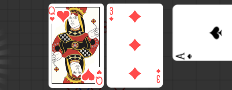3D: (109, 6, 115, 23)
AS: (175, 52, 194, 61)
QH: (67, 58, 93, 82), (32, 4, 58, 28)
